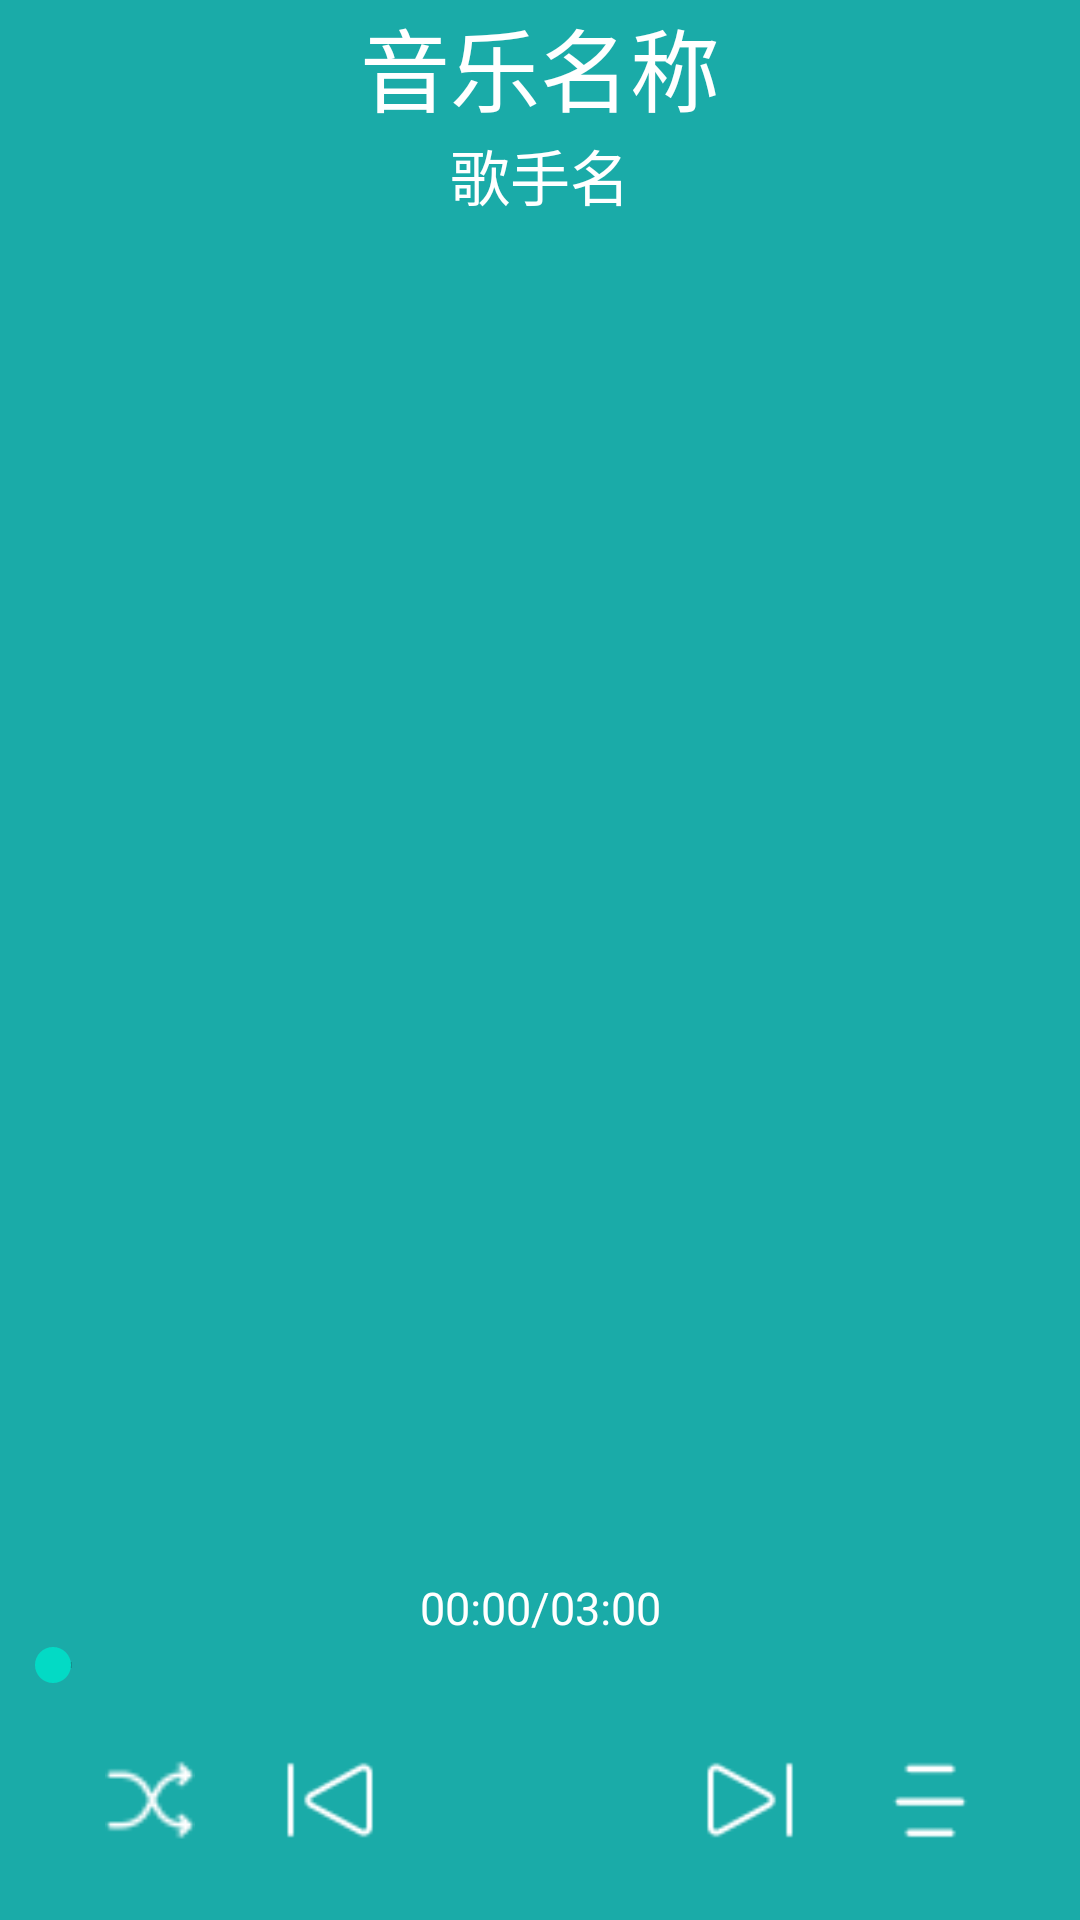

Named icons in this screenshot (1080×1920) and their bounding boxes, (x1, y1, x2, y2):
back: (287, 1762, 373, 1838)
next: (707, 1762, 793, 1838)
